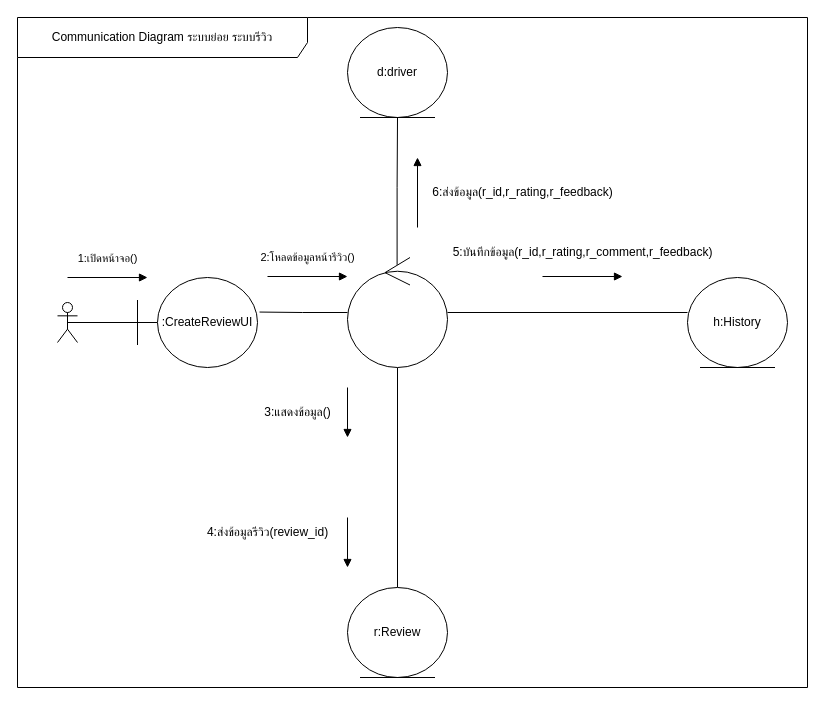
The diagram is 825 pixels wide and 705 high, and some of its shapes have lost their labels. The shapes that lost their labels are listed below. From the top down, each one's centre as x and y in pixels, then its label:
the point at 67,322: :Passenger
the point at 397,312: :CreateReview Controller
